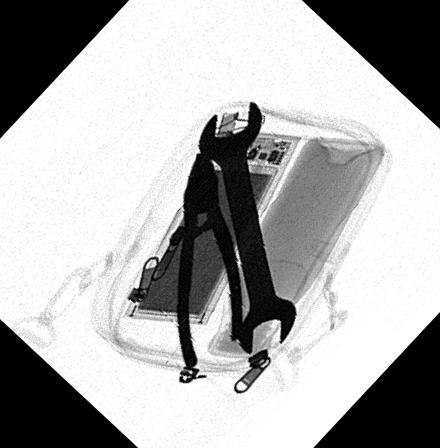Pliers: (177, 149, 245, 373)
Powerbank: (126, 133, 303, 325)
Wrench: (197, 101, 299, 354)
